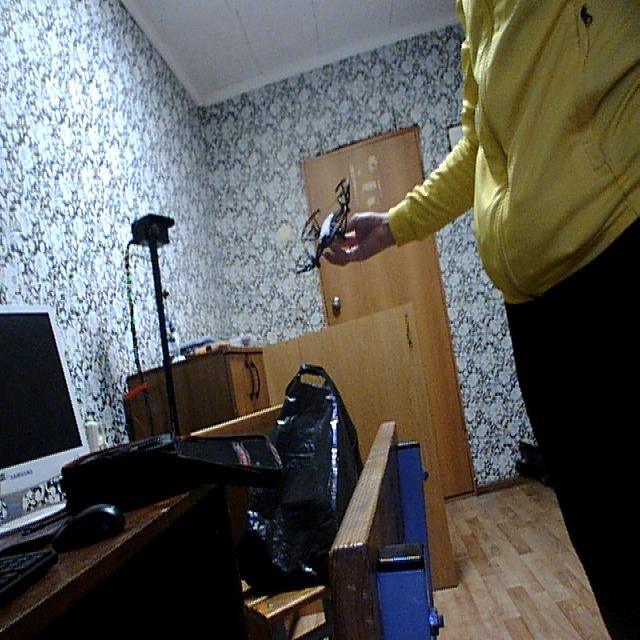drone: (293, 177, 357, 279)
